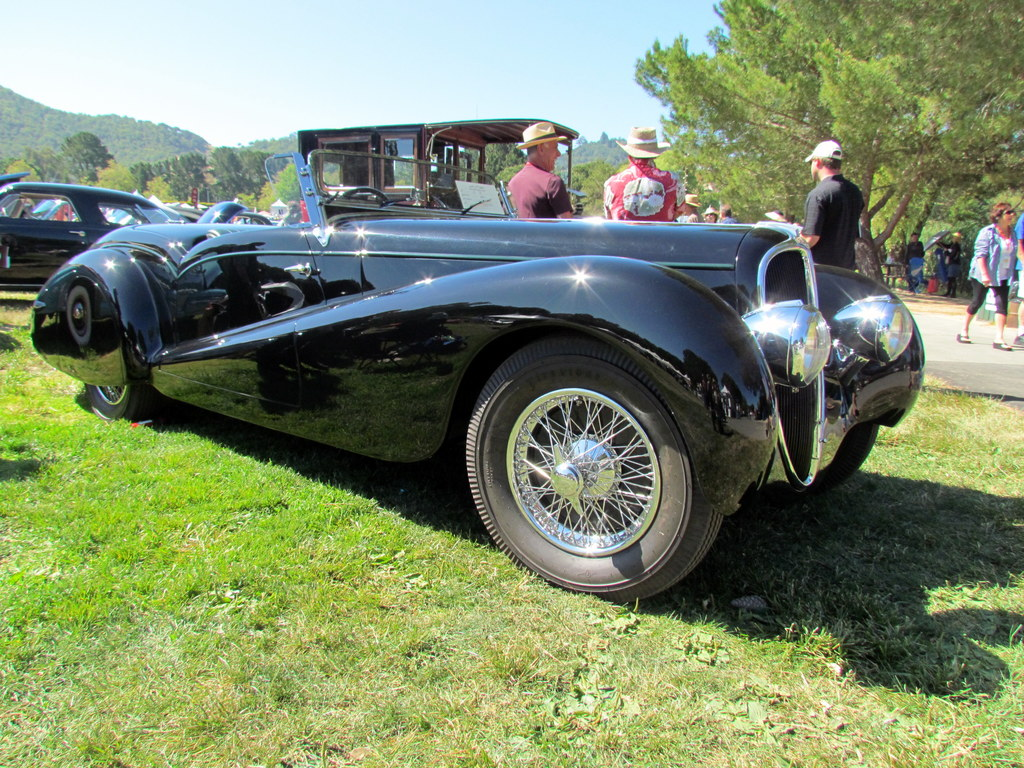car: (1, 163, 204, 298)
